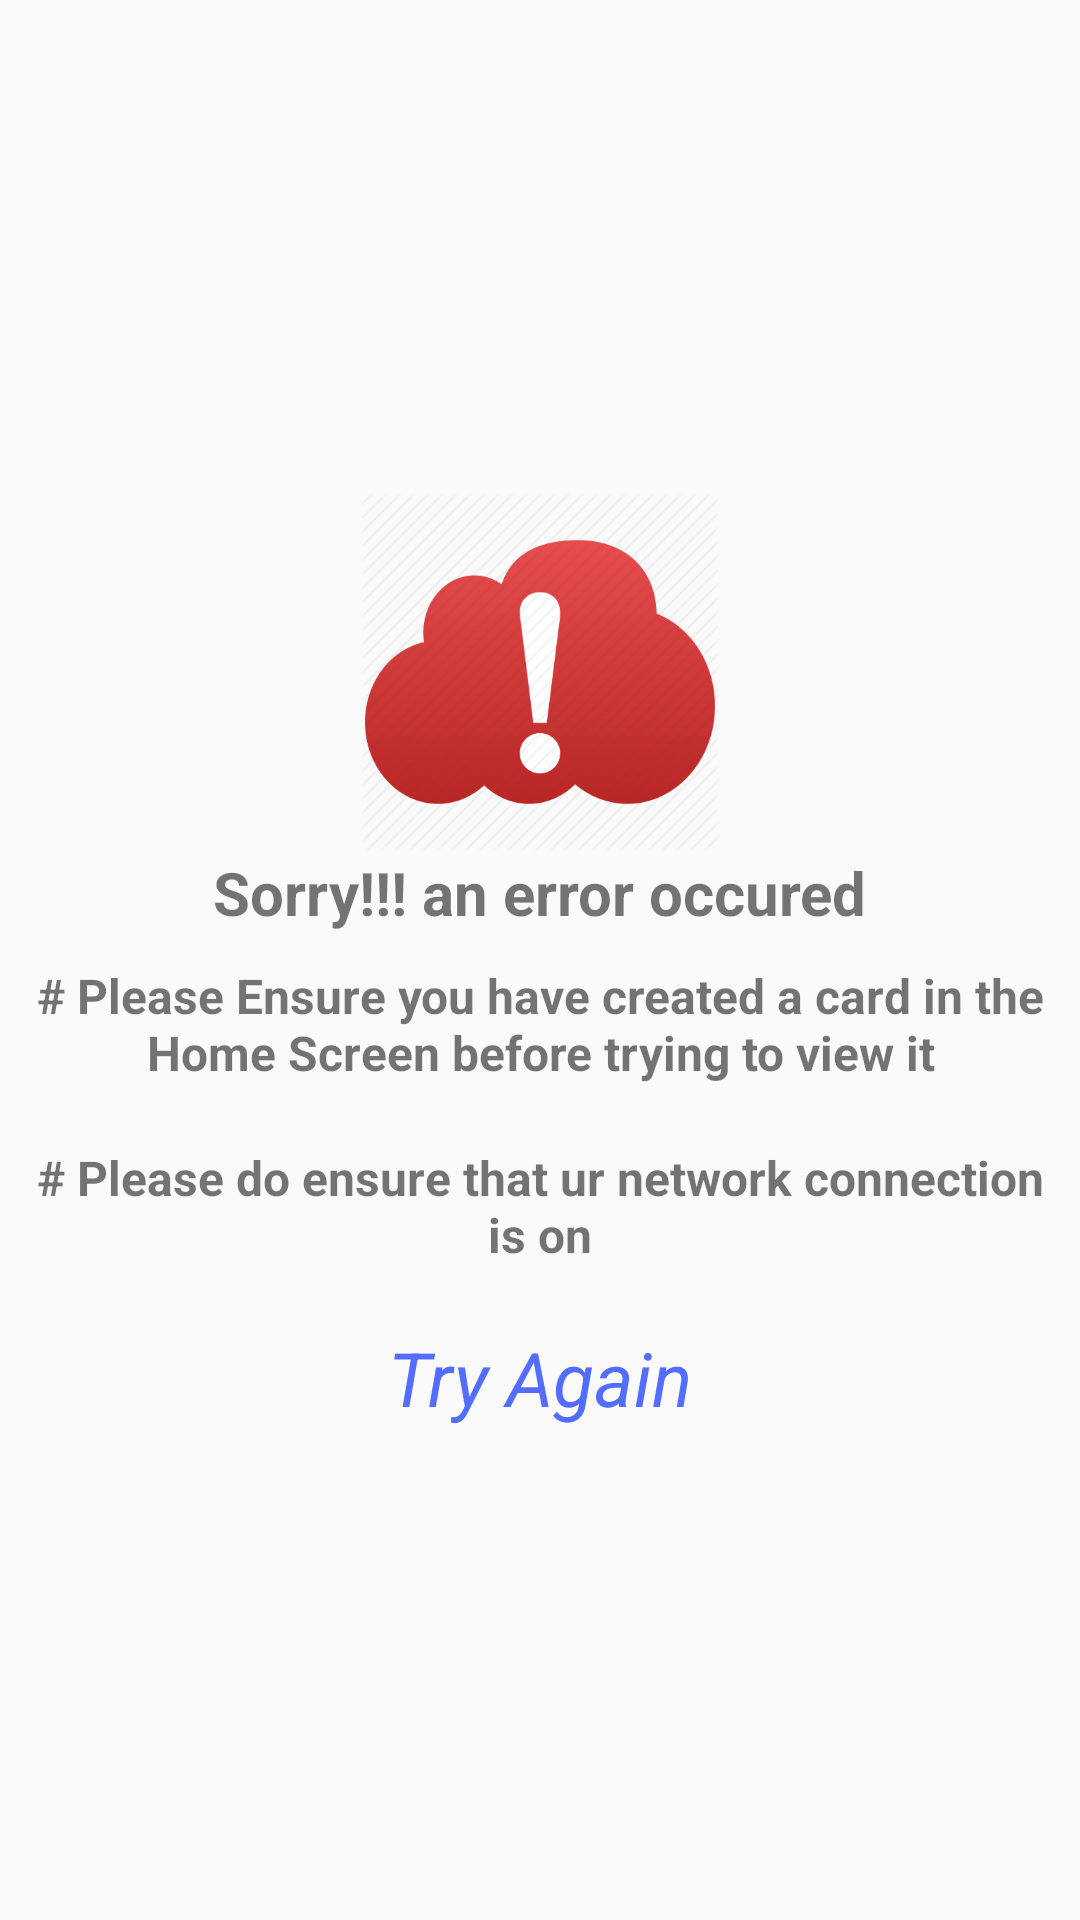

Screen size 1080px×1920px. Icon name, then its box in pixels as (x1, y1, x2, y2):
cloud problem: (365, 540, 715, 804)
